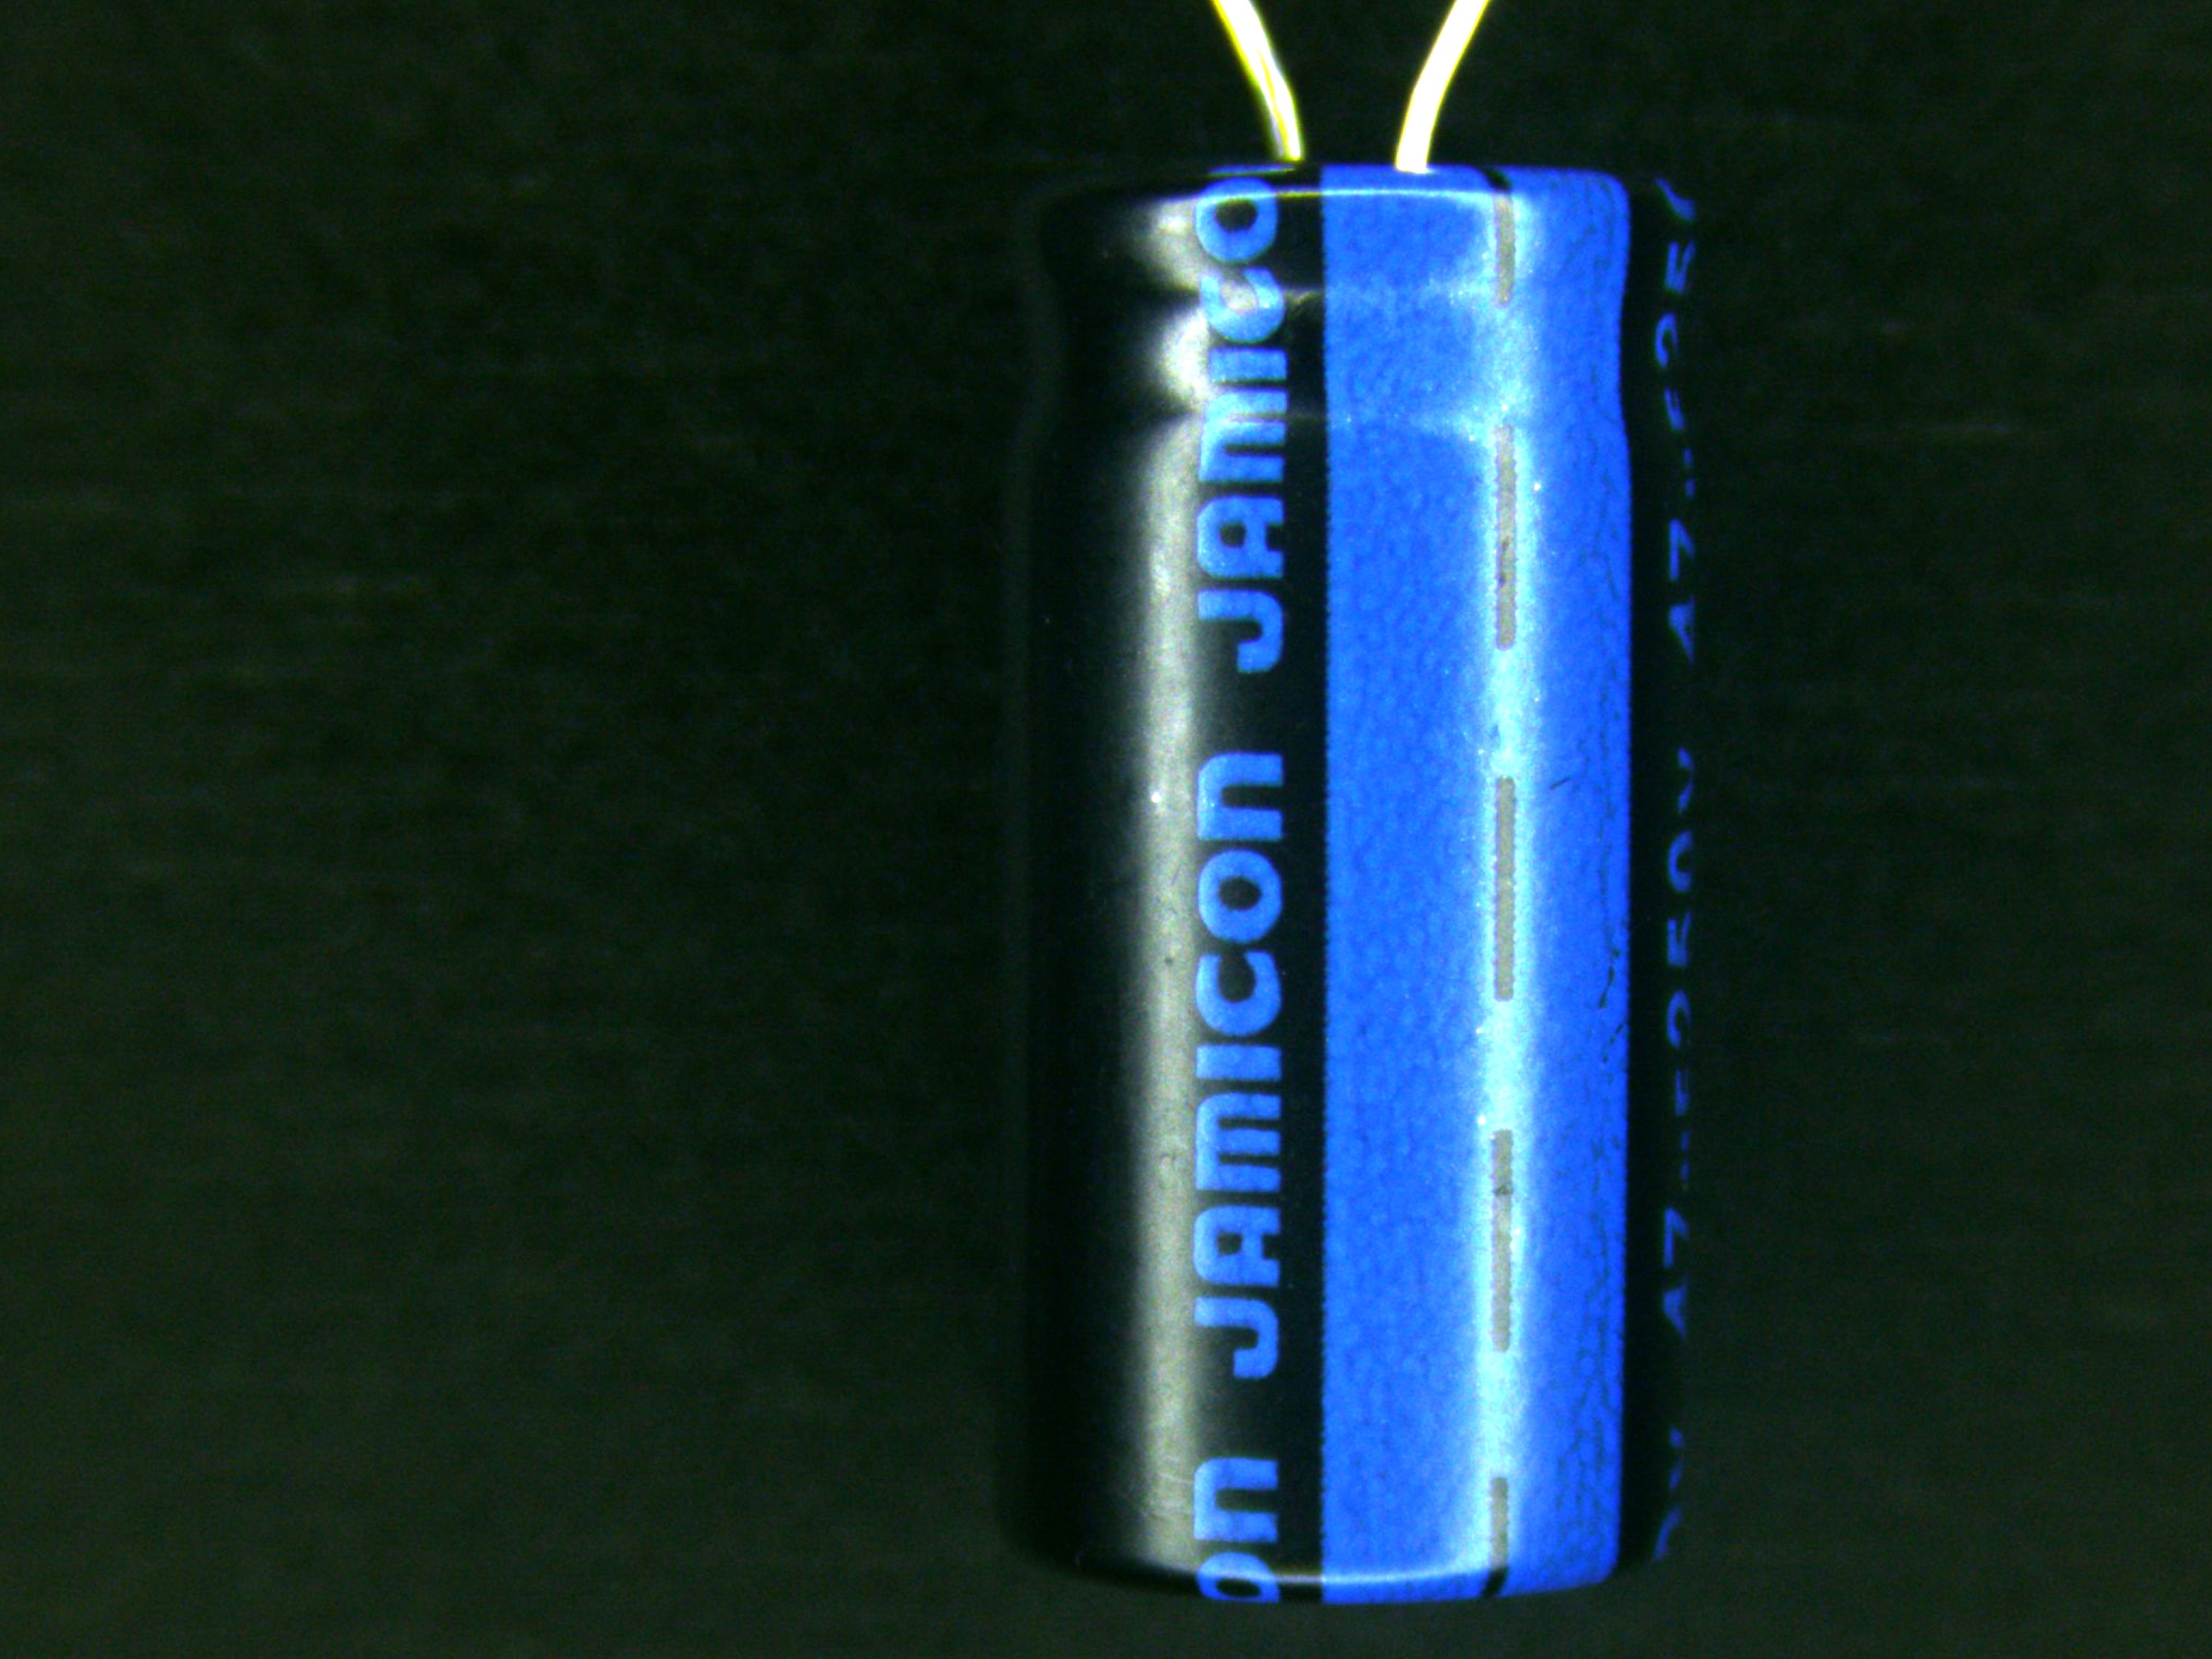c2: (993, 12, 1707, 1612)
